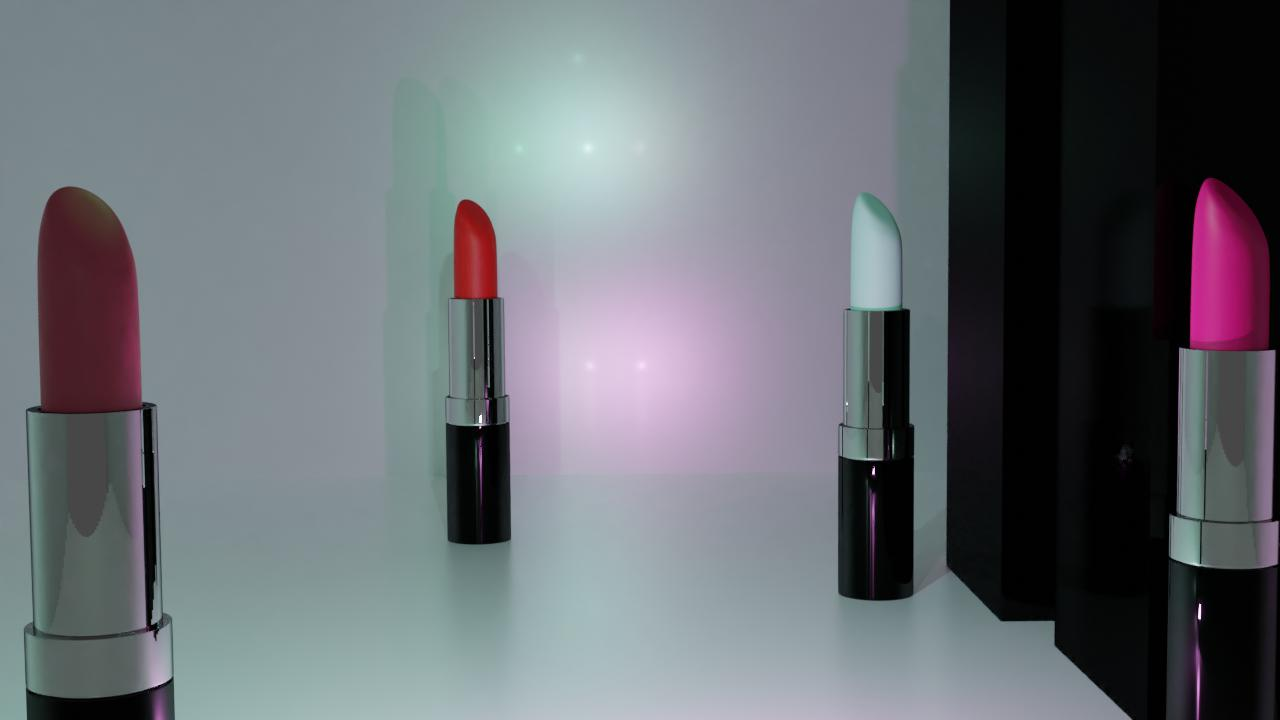CLASSIFIER_NAME: (20, 177, 184, 720), (1162, 171, 1280, 720), (836, 187, 916, 601), (444, 195, 512, 545)
